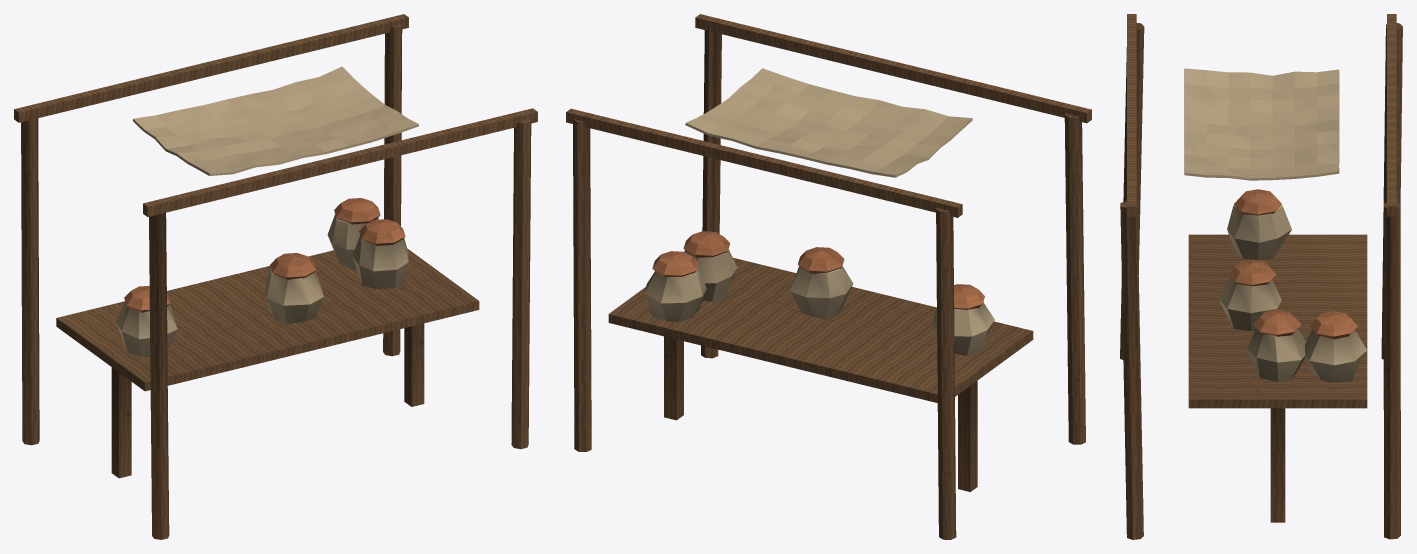
Rendered from canopy_grain.glb.
3 views of the same model, side by side, from view 1: azimuth 30°, elevation 25°; view 2: azimuth 150°, elevation 25°; view 3: azimuth 270°, elevation 25° (orthographic).
Visible parts, largest first — view 1: canopy_grain; view 2: canopy_grain; view 3: canopy_grain.
Part boxes in pixels (left/top/right/bottom): canopy_grain: left=14, top=14, right=537, bottom=539; canopy_grain: left=566, top=14, right=1091, bottom=539; canopy_grain: left=1120, top=14, right=1402, bottom=539.
Bounding box in the file's own units: 2.8 × 2.29 × 1.74.
3 materials, 3 textured.
